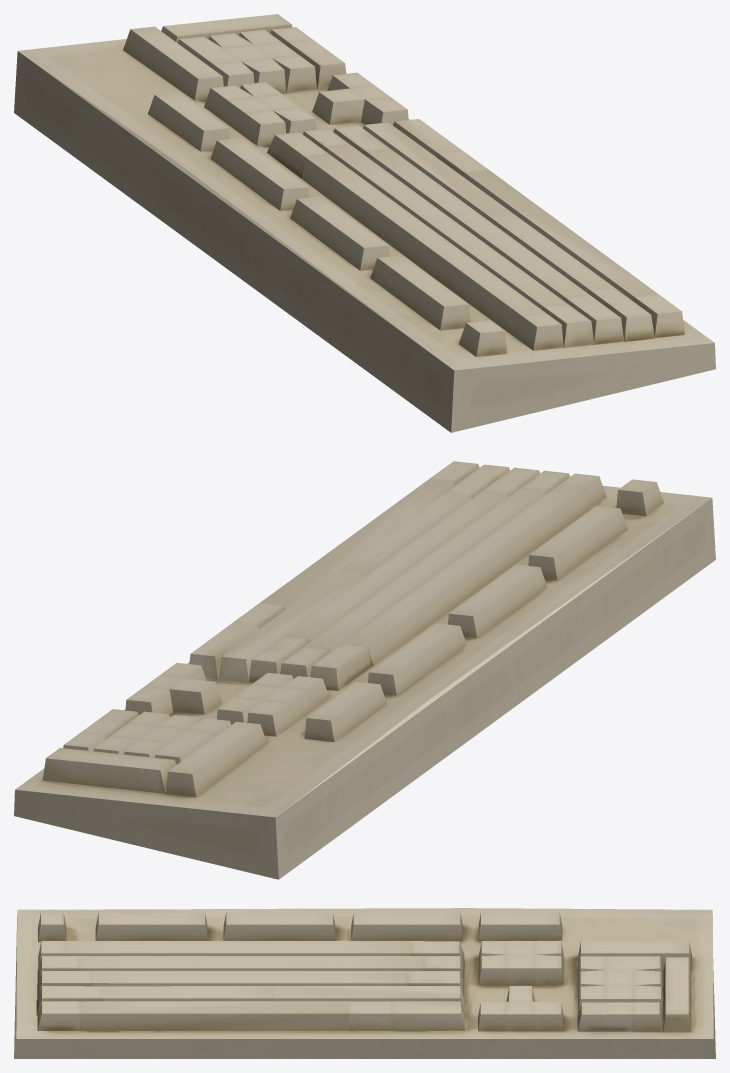
Rendered from Keyboard_LOD1.fbx.
3 views of the same model, one above another, from view 1: azimuth 30°, elevation 25°; view 2: azimuth 150°, elevation 25°; view 3: azimuth 270°, elevation 25° (orthographic). The views are drawn at different scales.
Visible parts, largest first — view 1: Keybaord_LOD1; view 2: Keybaord_LOD1; view 3: Keybaord_LOD1.
Boxes of the visible parts, bbox=[...] form: Keybaord_LOD1: bbox=[14, 14, 715, 432]; Keybaord_LOD1: bbox=[14, 461, 715, 879]; Keybaord_LOD1: bbox=[14, 908, 715, 1058].
Size of the model in its own units: 29.78 by 8.42 by 86.3.
